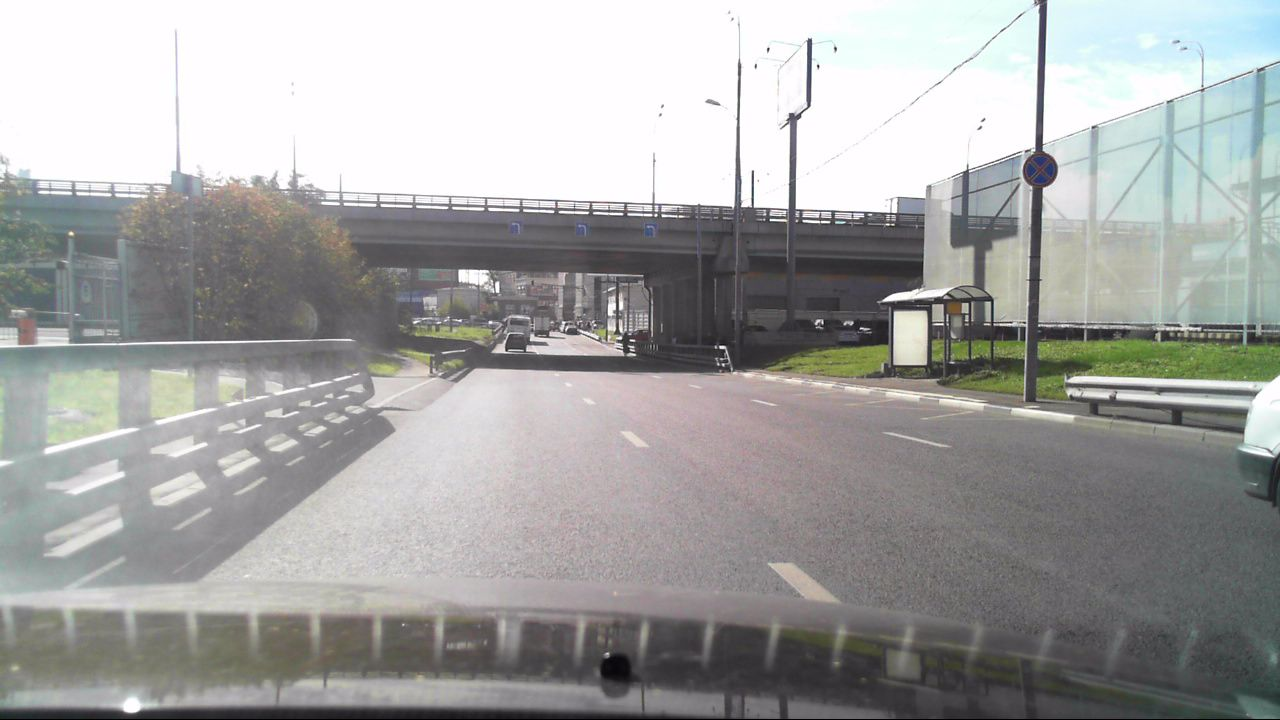No Parking: (1018, 150, 1060, 188)
